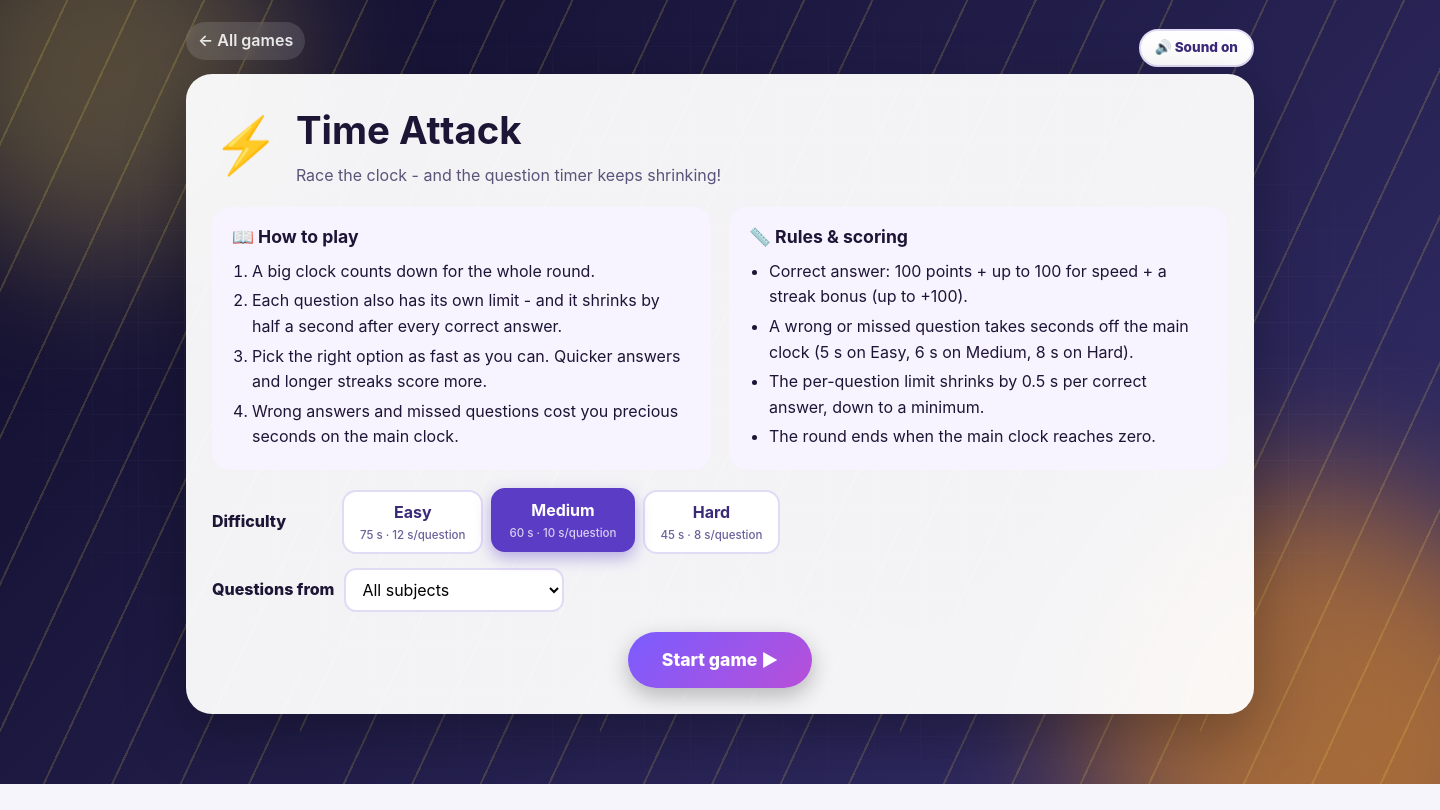
quiz games › Time Attack: a right answer scores and the question limit shrinks
Step 1. Click the radio button labelled "Easy 75 s · 12 s/question" → [413, 522], box [342, 490, 483, 554]
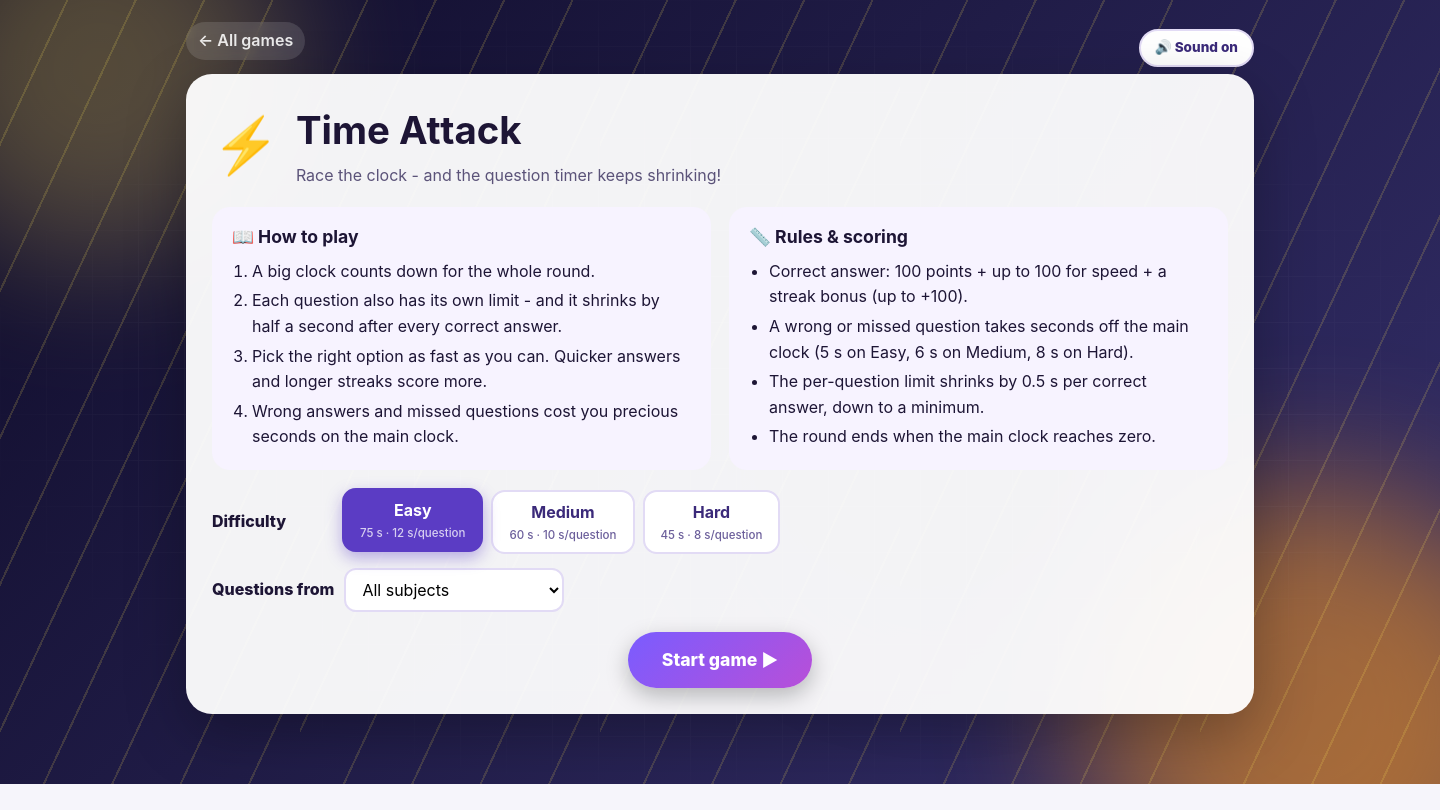
Step 2. Click the button "Start game ▶" → [720, 660], box [628, 632, 812, 688]
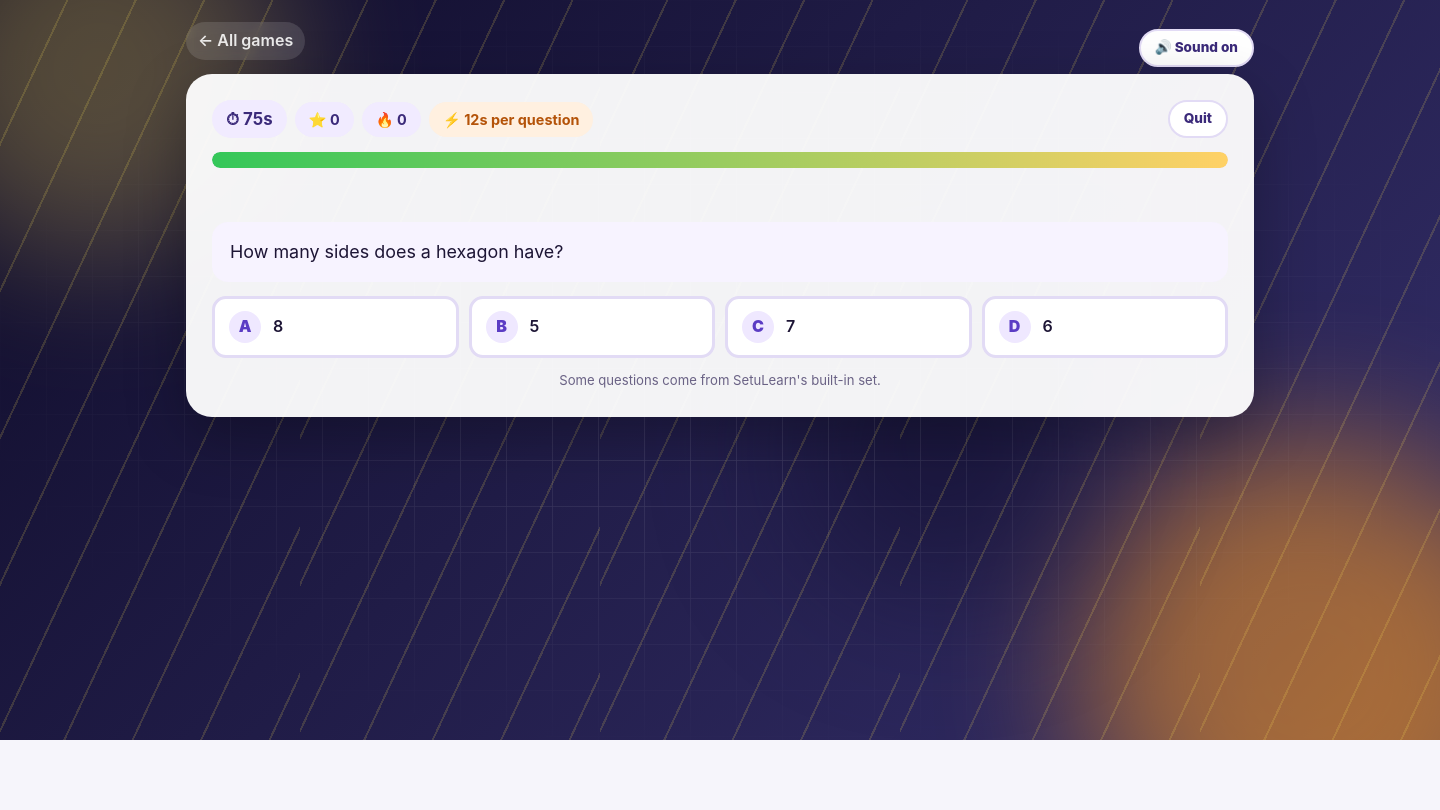
Result: the element showing "How many sides does a hexagon have?" is shown at [212, 222, 1228, 282]
Result: the text "⚡ 12s per question" is shown at [429, 102, 594, 136]
Step 3. Click the button "D 6" → [1105, 327], box [982, 296, 1228, 358]
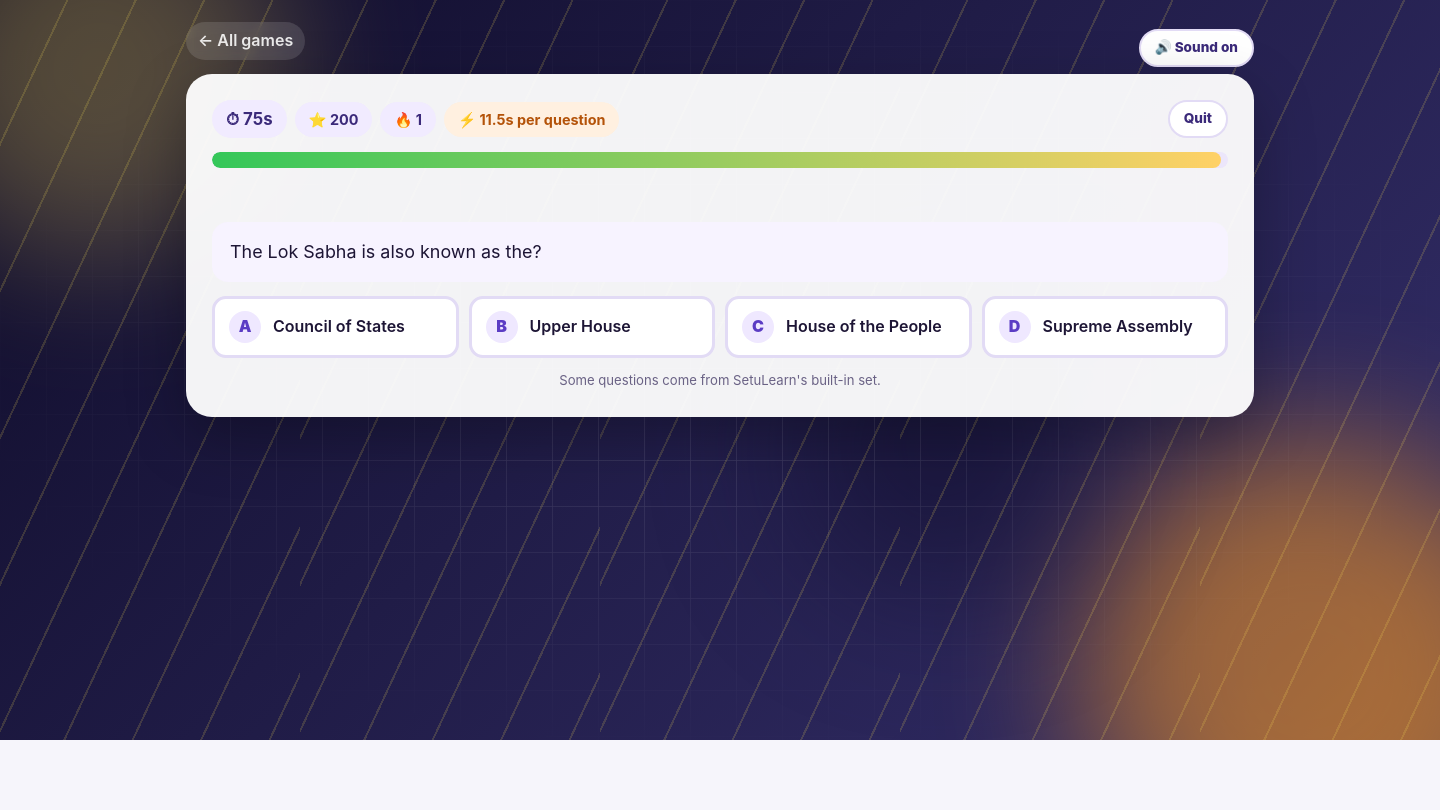
Result: the text "⭐ 200" is shown at [294, 102, 372, 136]
Result: the text "⚡ 11.5s per question" is shown at [444, 102, 620, 136]
